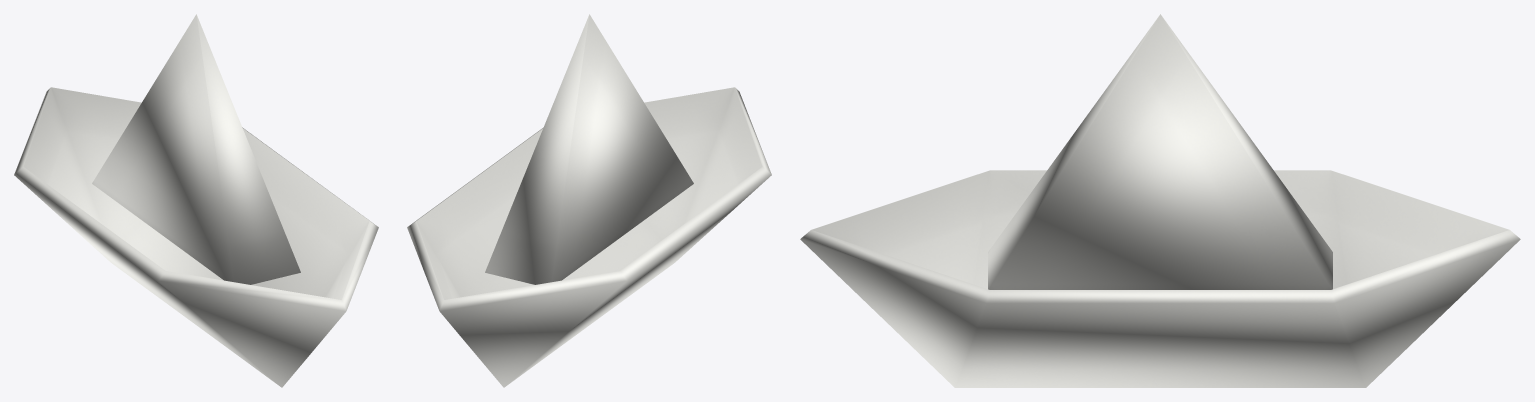
Rendered from paper-boat.fbx.
3 renders of one model, left to right at view 1: azimuth 30°, elevation 25°; view 2: azimuth 150°, elevation 25°; view 3: azimuth 270°, elevation 25°, orthographic. The views are drawn at different scales.
Parts seen in each view (by area): view 1: paper-boat; view 2: paper-boat; view 3: paper-boat.
Part boxes in pixels (x1,y1,x2,y2): paper-boat: [14, 14, 378, 387]; paper-boat: [407, 14, 771, 387]; paper-boat: [800, 14, 1520, 387].
Bounding box in the file's own units: 610 × 824 × 1440.
Materials: 1 (1 with a texture image).
